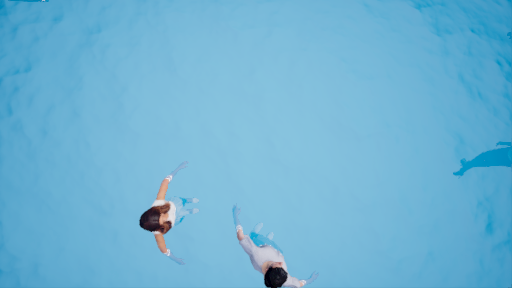person: (130, 159, 208, 258), (232, 205, 318, 288)
